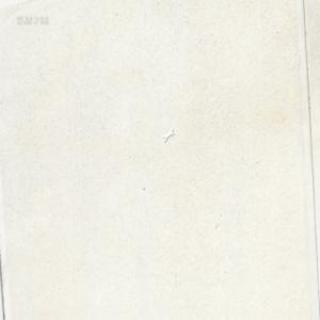Wrenchtrack_idkeyframe: (162, 128, 173, 141)
